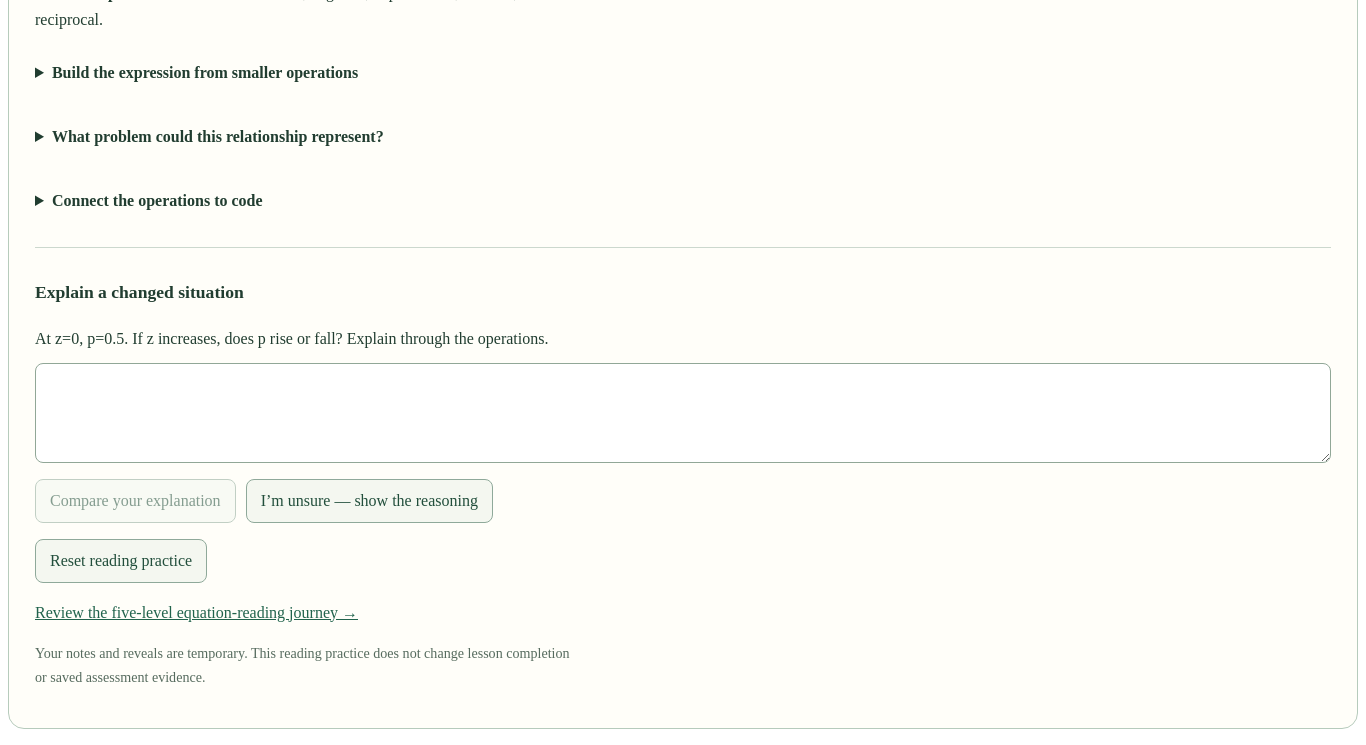
it: Equation literacy without new evidence or grading › shows a comparison for a learner explanation without declaring it correct or saving it
(page scrolled)
Expected: the button "Compare your explanation" is disabled, [35,478,236,522]
Type "The denominator gets smaller, so the probability rises." into the text box at (683, 412), box [35,362,1331,462]
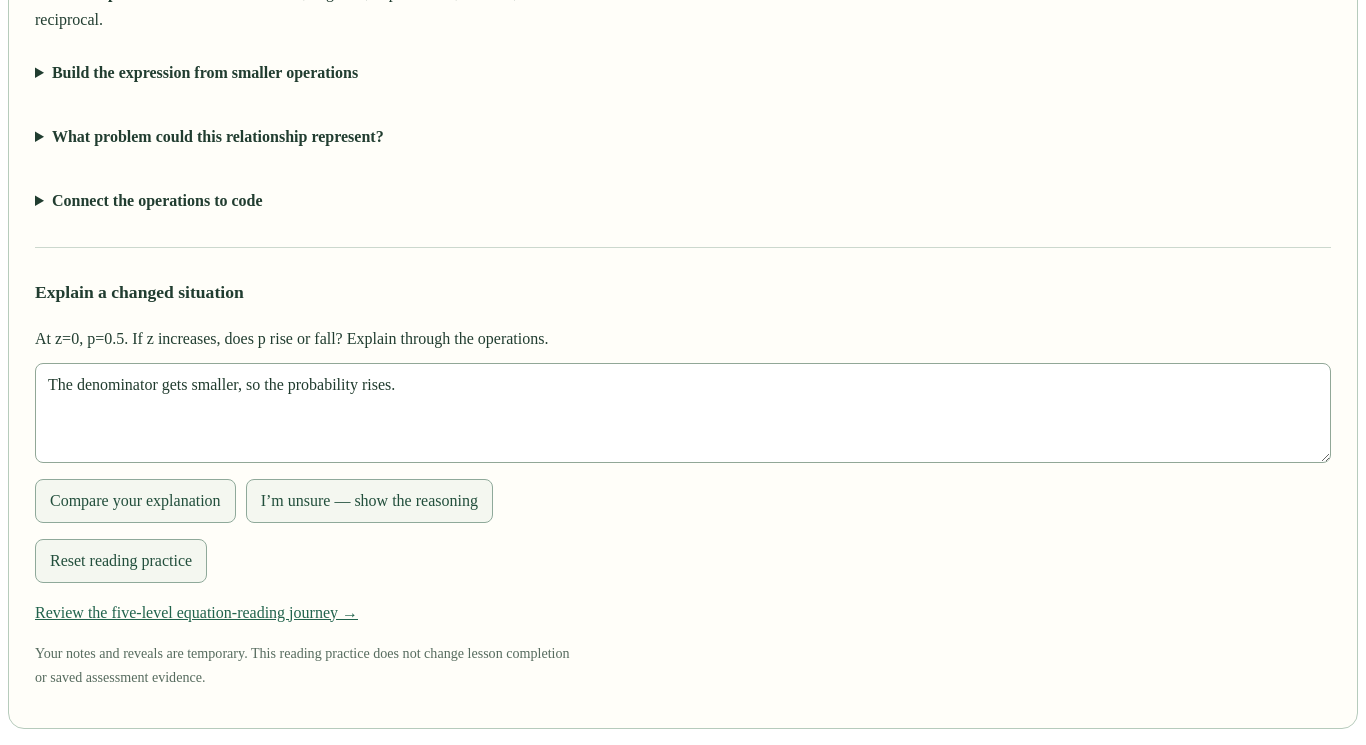
Click the button "Compare your explanation" at (135, 500), box [35,478,236,522]
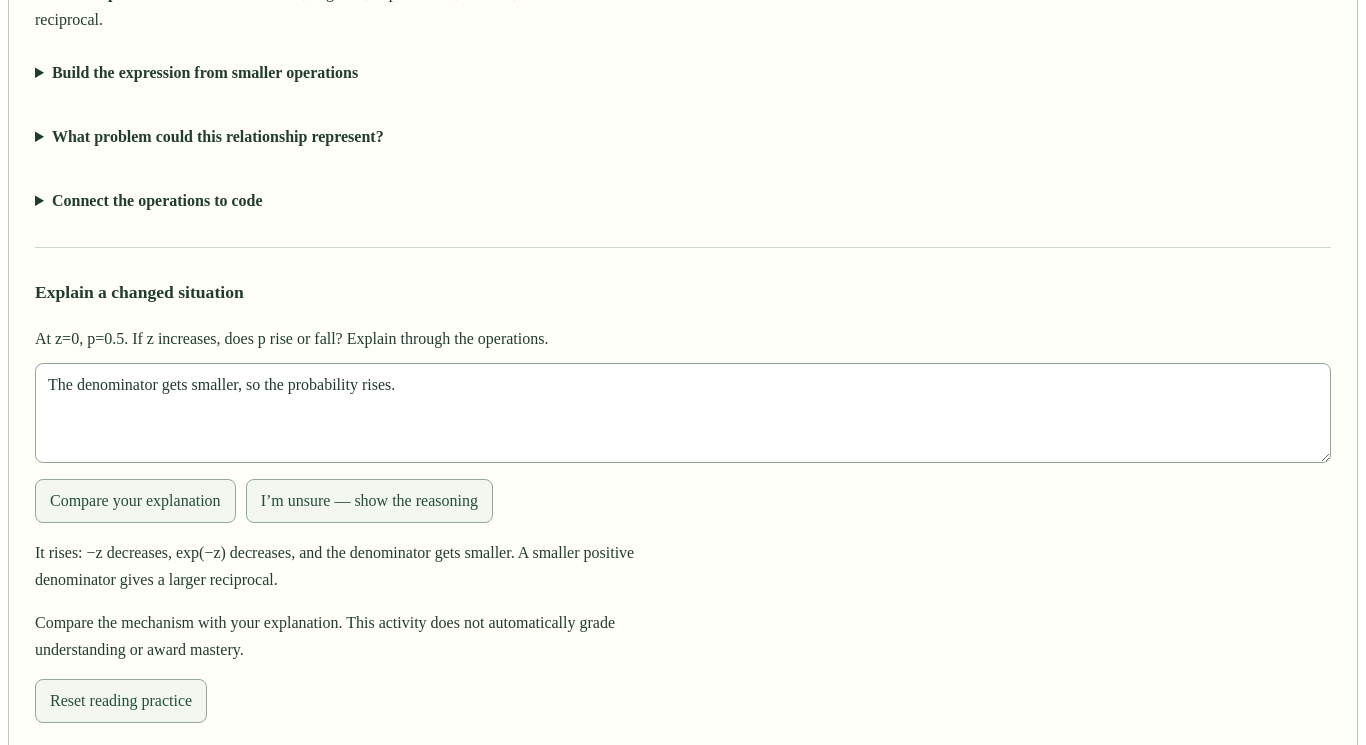
Expected: the text "It rises: −z decreases" is shown, [35,544,634,588]
Expected: the text "does not automatically grade understanding" is shown, [35,614,615,658]
Click the button "Reset reading practice" at (121, 701), box [35,679,207,723]
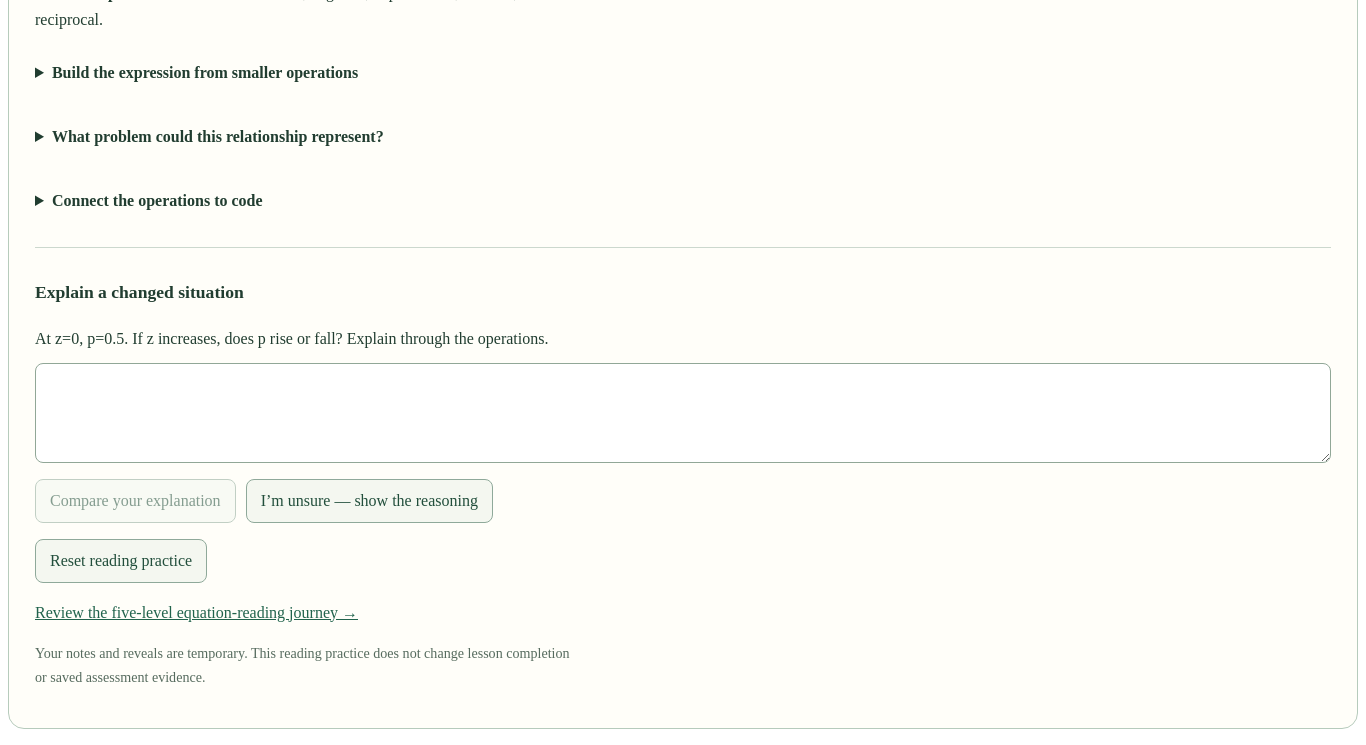
Expected: the text box is empty, [35,362,1331,462]
Expected: the text "It rises: −z decreases" is gone
